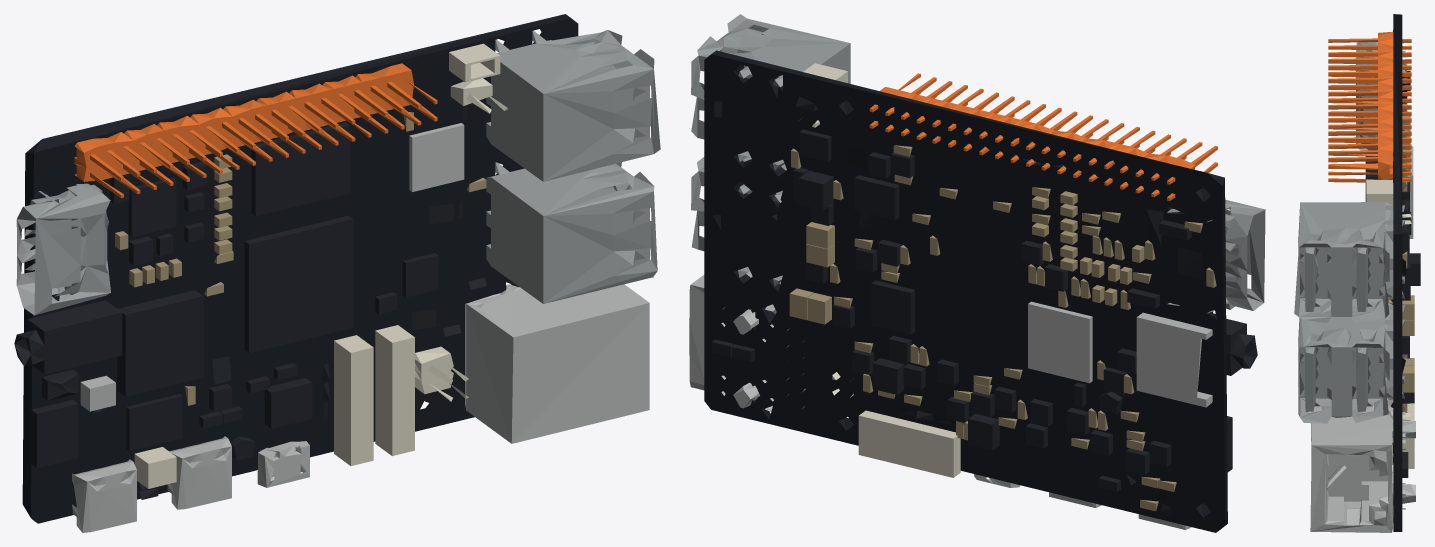
The model's file is rdk-x5.glb.
3 views of the same model, side by side, from view 1: azimuth 30°, elevation 25°; view 2: azimuth 150°, elevation 25°; view 3: azimuth 270°, elevation 25° (orthographic). The views are drawn at different scales.
Parts seen in each view (by area): view 1: BOARD_OUTLINE, L2520, object 5, SD卡座, 排针-20, JST3, C0603; view 2: BOARD_OUTLINE, L2520, C0603, SD卡座, object 5, 排针-20, JST3; view 3: object 5, SD卡座, 排针-20, BOARD_OUTLINE, L2520, C0603, JST3.
Part boxes in pixels (x1,y1,x2,y2): BOARD_OUTLINE: [22, 14, 578, 523]; L2520: [14, 105, 486, 499]; object 5: [16, 30, 660, 315]; SD卡座: [72, 123, 649, 532]; 排针-20: [74, 63, 437, 197]; JST3: [134, 43, 508, 488]; C0603: [115, 112, 486, 405]; BOARD_OUTLINE: [704, 50, 1227, 532]; L2520: [711, 96, 1257, 513]; C0603: [789, 145, 1216, 511]; SD卡座: [689, 271, 1212, 529]; object 5: [691, 14, 1265, 313]; 排针-20: [869, 73, 1217, 200]; JST3: [798, 63, 960, 477]; object 5: [1294, 42, 1405, 423]; SD卡座: [1310, 146, 1415, 532]; 排针-20: [1328, 31, 1411, 182]; BOARD_OUTLINE: [1393, 14, 1402, 531]; L2520: [1365, 70, 1420, 477]; C0603: [1388, 63, 1414, 412]; JST3: [1366, 180, 1414, 468].
Size of the model in its own units: 2 by 1.26 by 0.4559.
